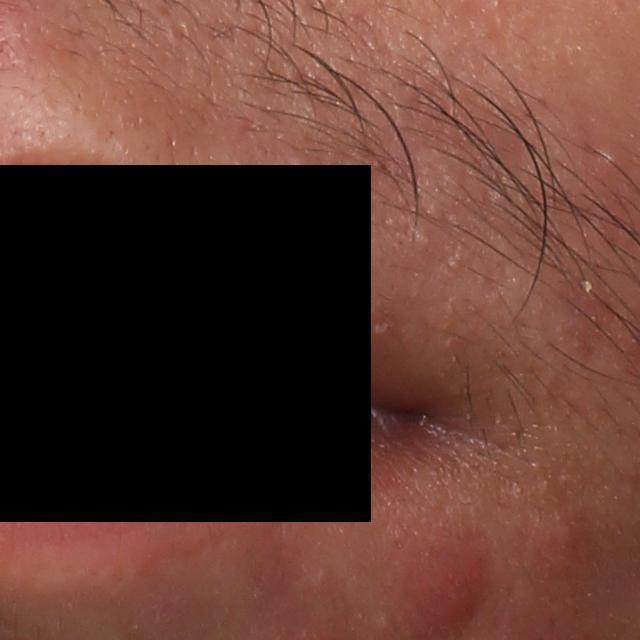papule: (391, 525, 492, 631), (533, 508, 599, 574)
